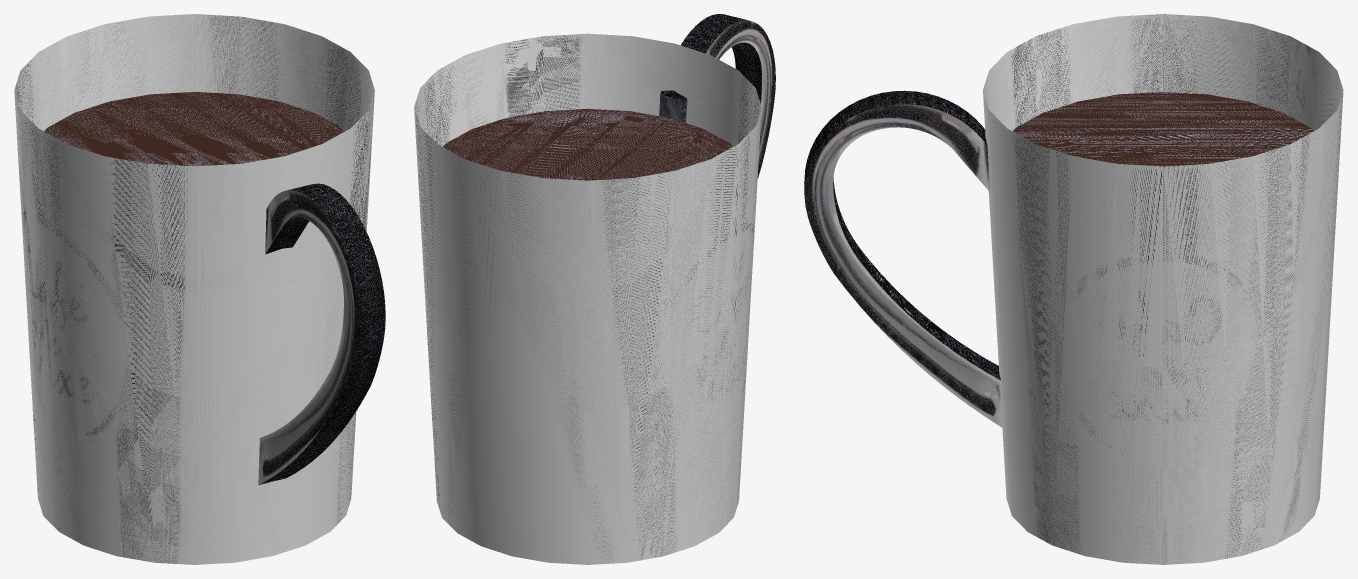
3 renders of one model, left to right at view 1: azimuth 30°, elevation 25°; view 2: azimuth 150°, elevation 25°; view 3: azimuth 270°, elevation 25°, orthographic. The views are drawn at different scales.
Visible parts, largest first — view 1: group_1, group_0 (×3), SketchUp; view 2: group_1, SketchUp, group_0 (×3); view 3: group_1, group_0 (×3), SketchUp.
Part boxes in pixels (bbox=[...]): group_1: bbox=[14, 14, 374, 564]; group_0 (×3): bbox=[258, 183, 385, 484]; SketchUp: bbox=[44, 92, 344, 166]; group_1: bbox=[414, 33, 761, 564]; SketchUp: bbox=[443, 108, 732, 180]; group_0 (×3): bbox=[659, 14, 775, 178]; group_1: bbox=[983, 14, 1343, 564]; group_0 (×3): bbox=[804, 90, 1003, 428]; SketchUp: bbox=[1013, 92, 1313, 166].
Size of the model in its own units: 3.15 by 4.71 by 3.94.
5 materials, 1 textured.
